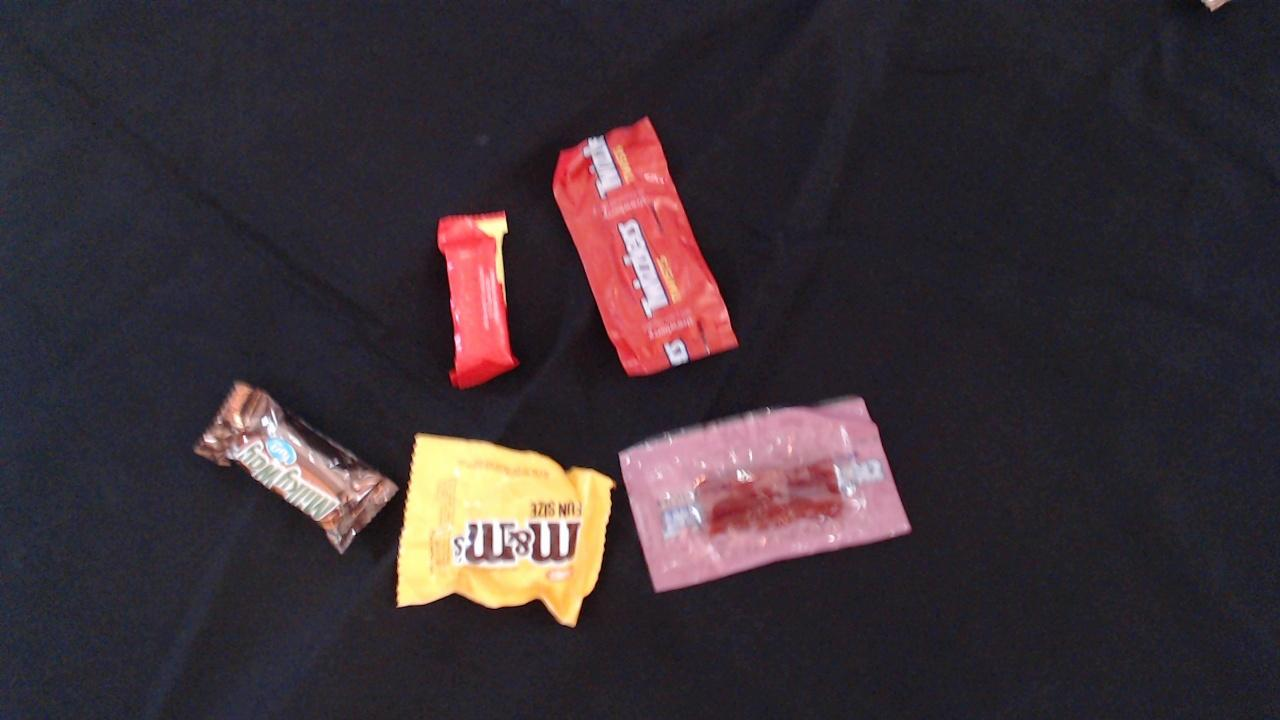MM_yellow: (394, 426, 615, 635)
milky_way: (188, 372, 401, 561)
starburst: (427, 206, 527, 401)
twizzlers: (615, 392, 913, 594), (547, 112, 742, 377)
